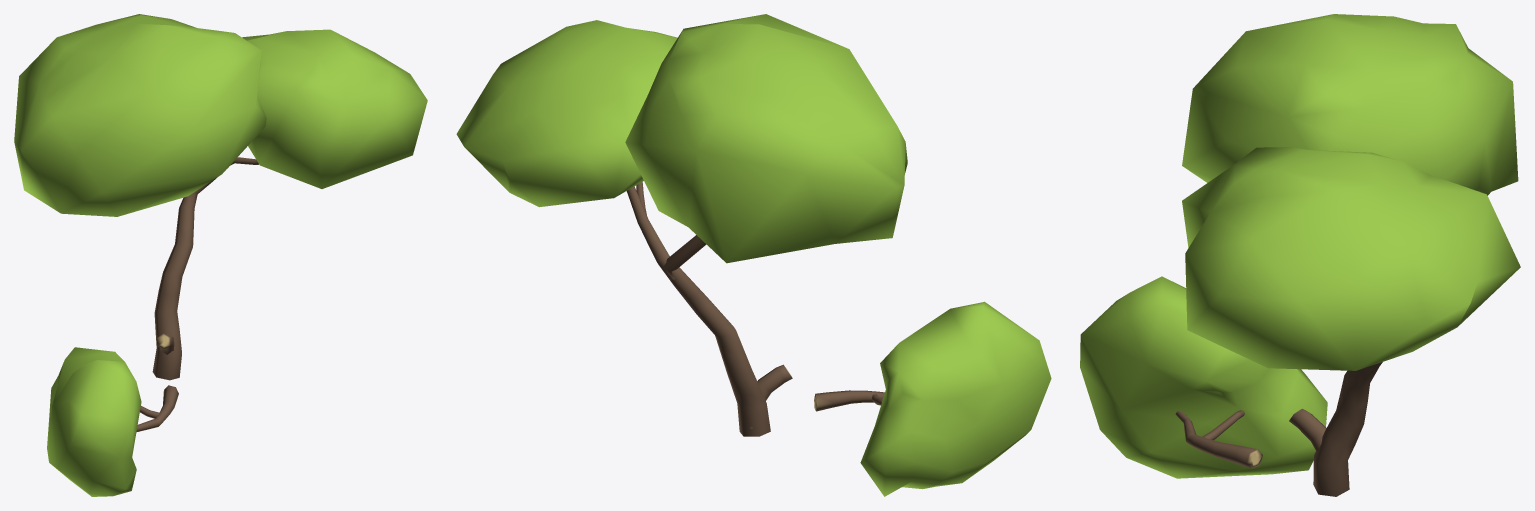
Rendered from tree_cut_1.fbx.
3 renders of one model, left to right at view 1: azimuth 30°, elevation 25°; view 2: azimuth 150°, elevation 25°; view 3: azimuth 270°, elevation 25°, orthographic. The views are drawn at different scales.
Parts seen in each view (by area): view 1: Tube; view 2: Tube; view 3: Tube.
Part boxes in pixels (x1=…): Tube: x1=14, y1=14, x2=427, y2=496; Tube: x1=456, y1=14, x2=1051, y2=496; Tube: x1=1080, y1=14, x2=1520, y2=496.
Size of the model in its own units: 198 by 183 by 139.
